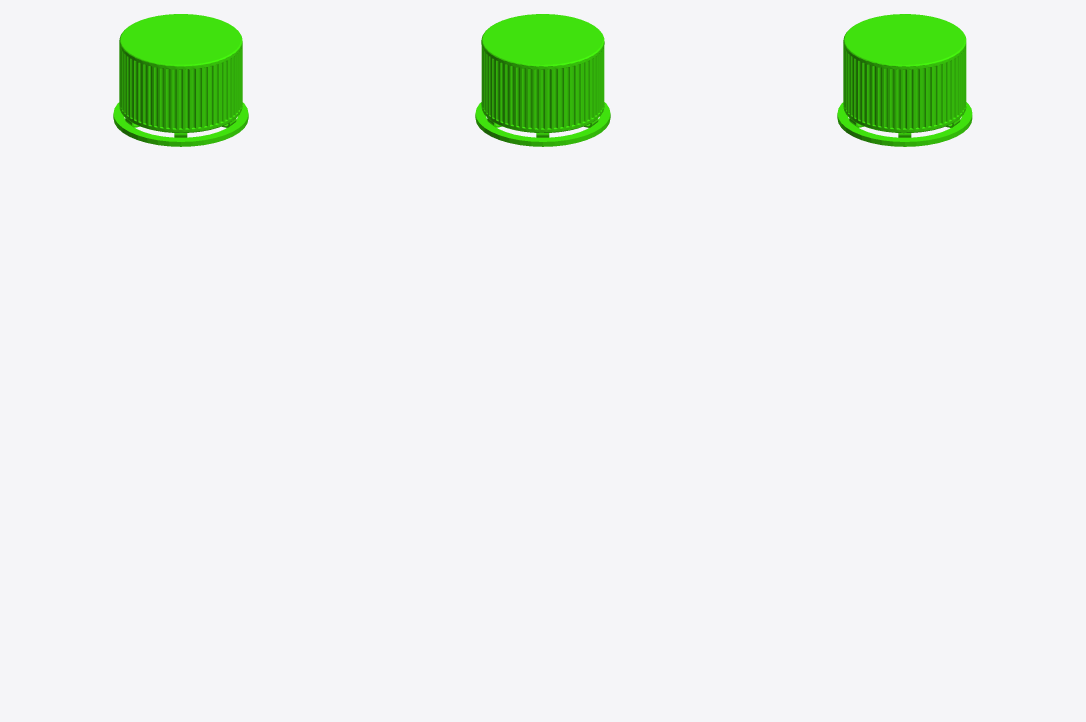
3 renders of one model, left to right at view 1: azimuth 30°, elevation 25°; view 2: azimuth 150°, elevation 25°; view 3: azimuth 270°, elevation 25°, orthographic.
Bounding box in the file's own units: 0.123 × 0.25 × 0.1231.
1 material, 1 textured.
